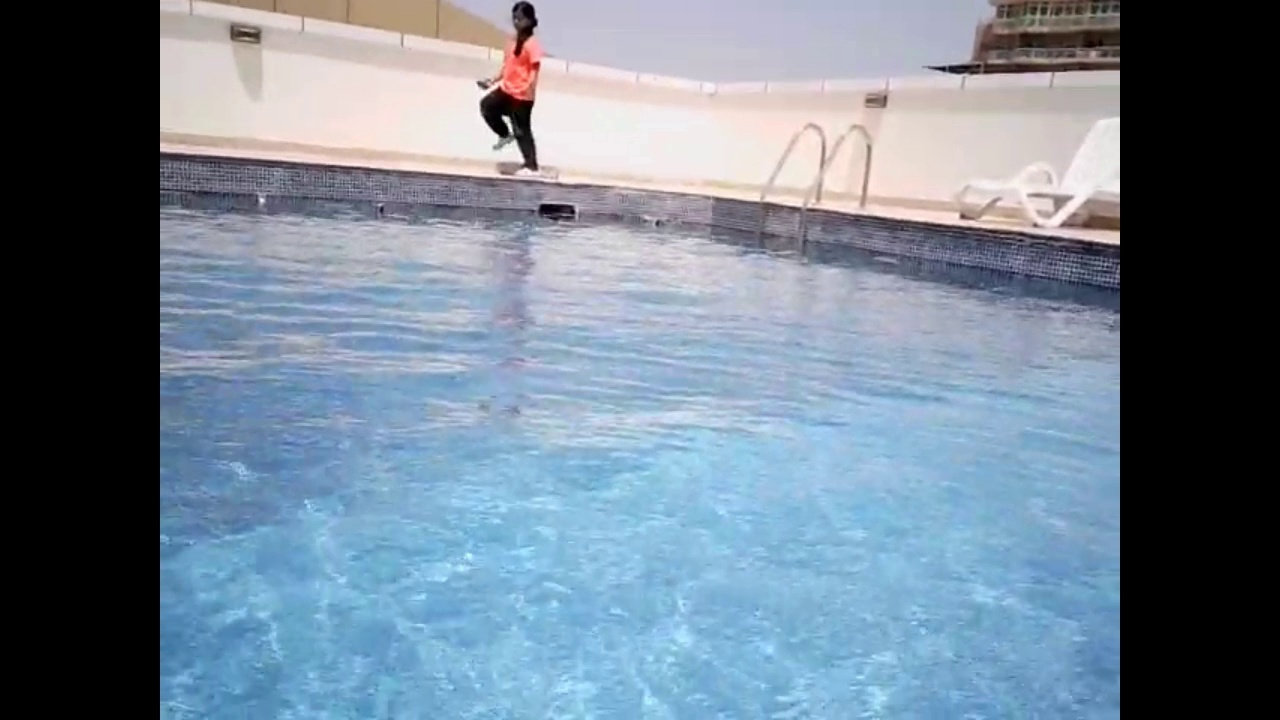debris: (645, 214, 667, 231), (370, 199, 387, 220), (254, 188, 270, 206), (637, 211, 650, 227)
